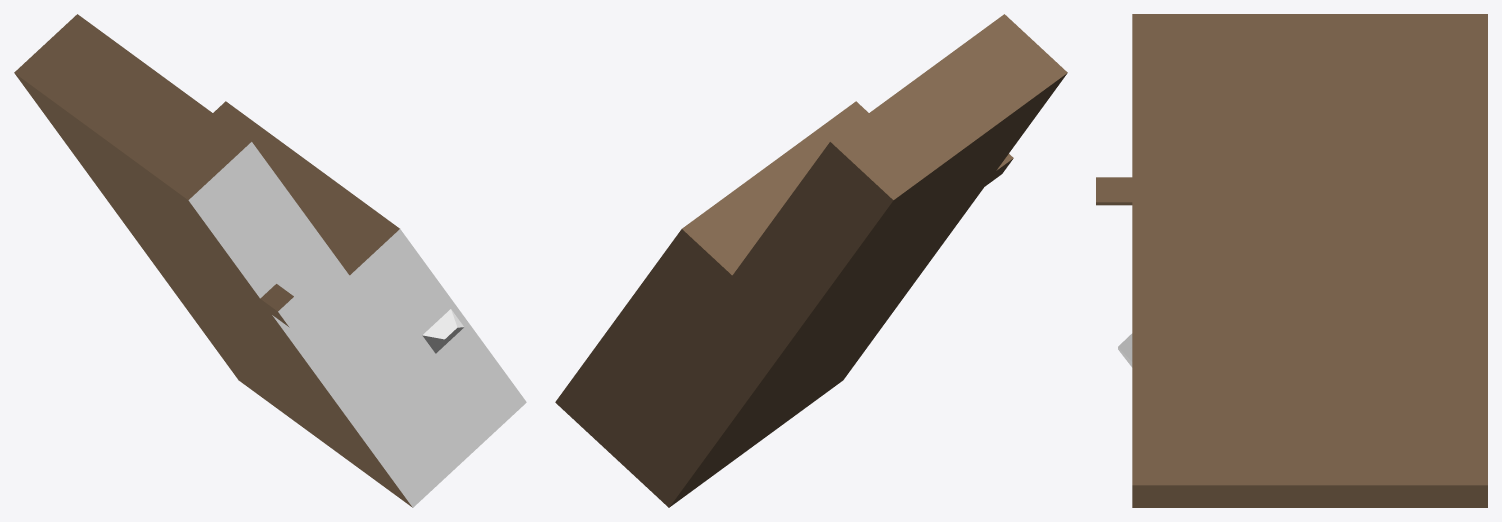
3 views of the same model, side by side, from view 1: azimuth 30°, elevation 25°; view 2: azimuth 150°, elevation 25°; view 3: azimuth 270°, elevation 25° (orthographic).
Parts seen in each view (by area): view 1: City_1885137; view 2: City_1885137; view 3: City_1885137.
Part boxes in pixels (left/top/right/bottom): City_1885137: left=14, top=14, right=526, bottom=507; City_1885137: left=555, top=14, right=1067, bottom=507; City_1885137: left=1096, top=14, right=1487, bottom=507.
Bounding box in the file's own units: 1457 × 1669 × 1433.
